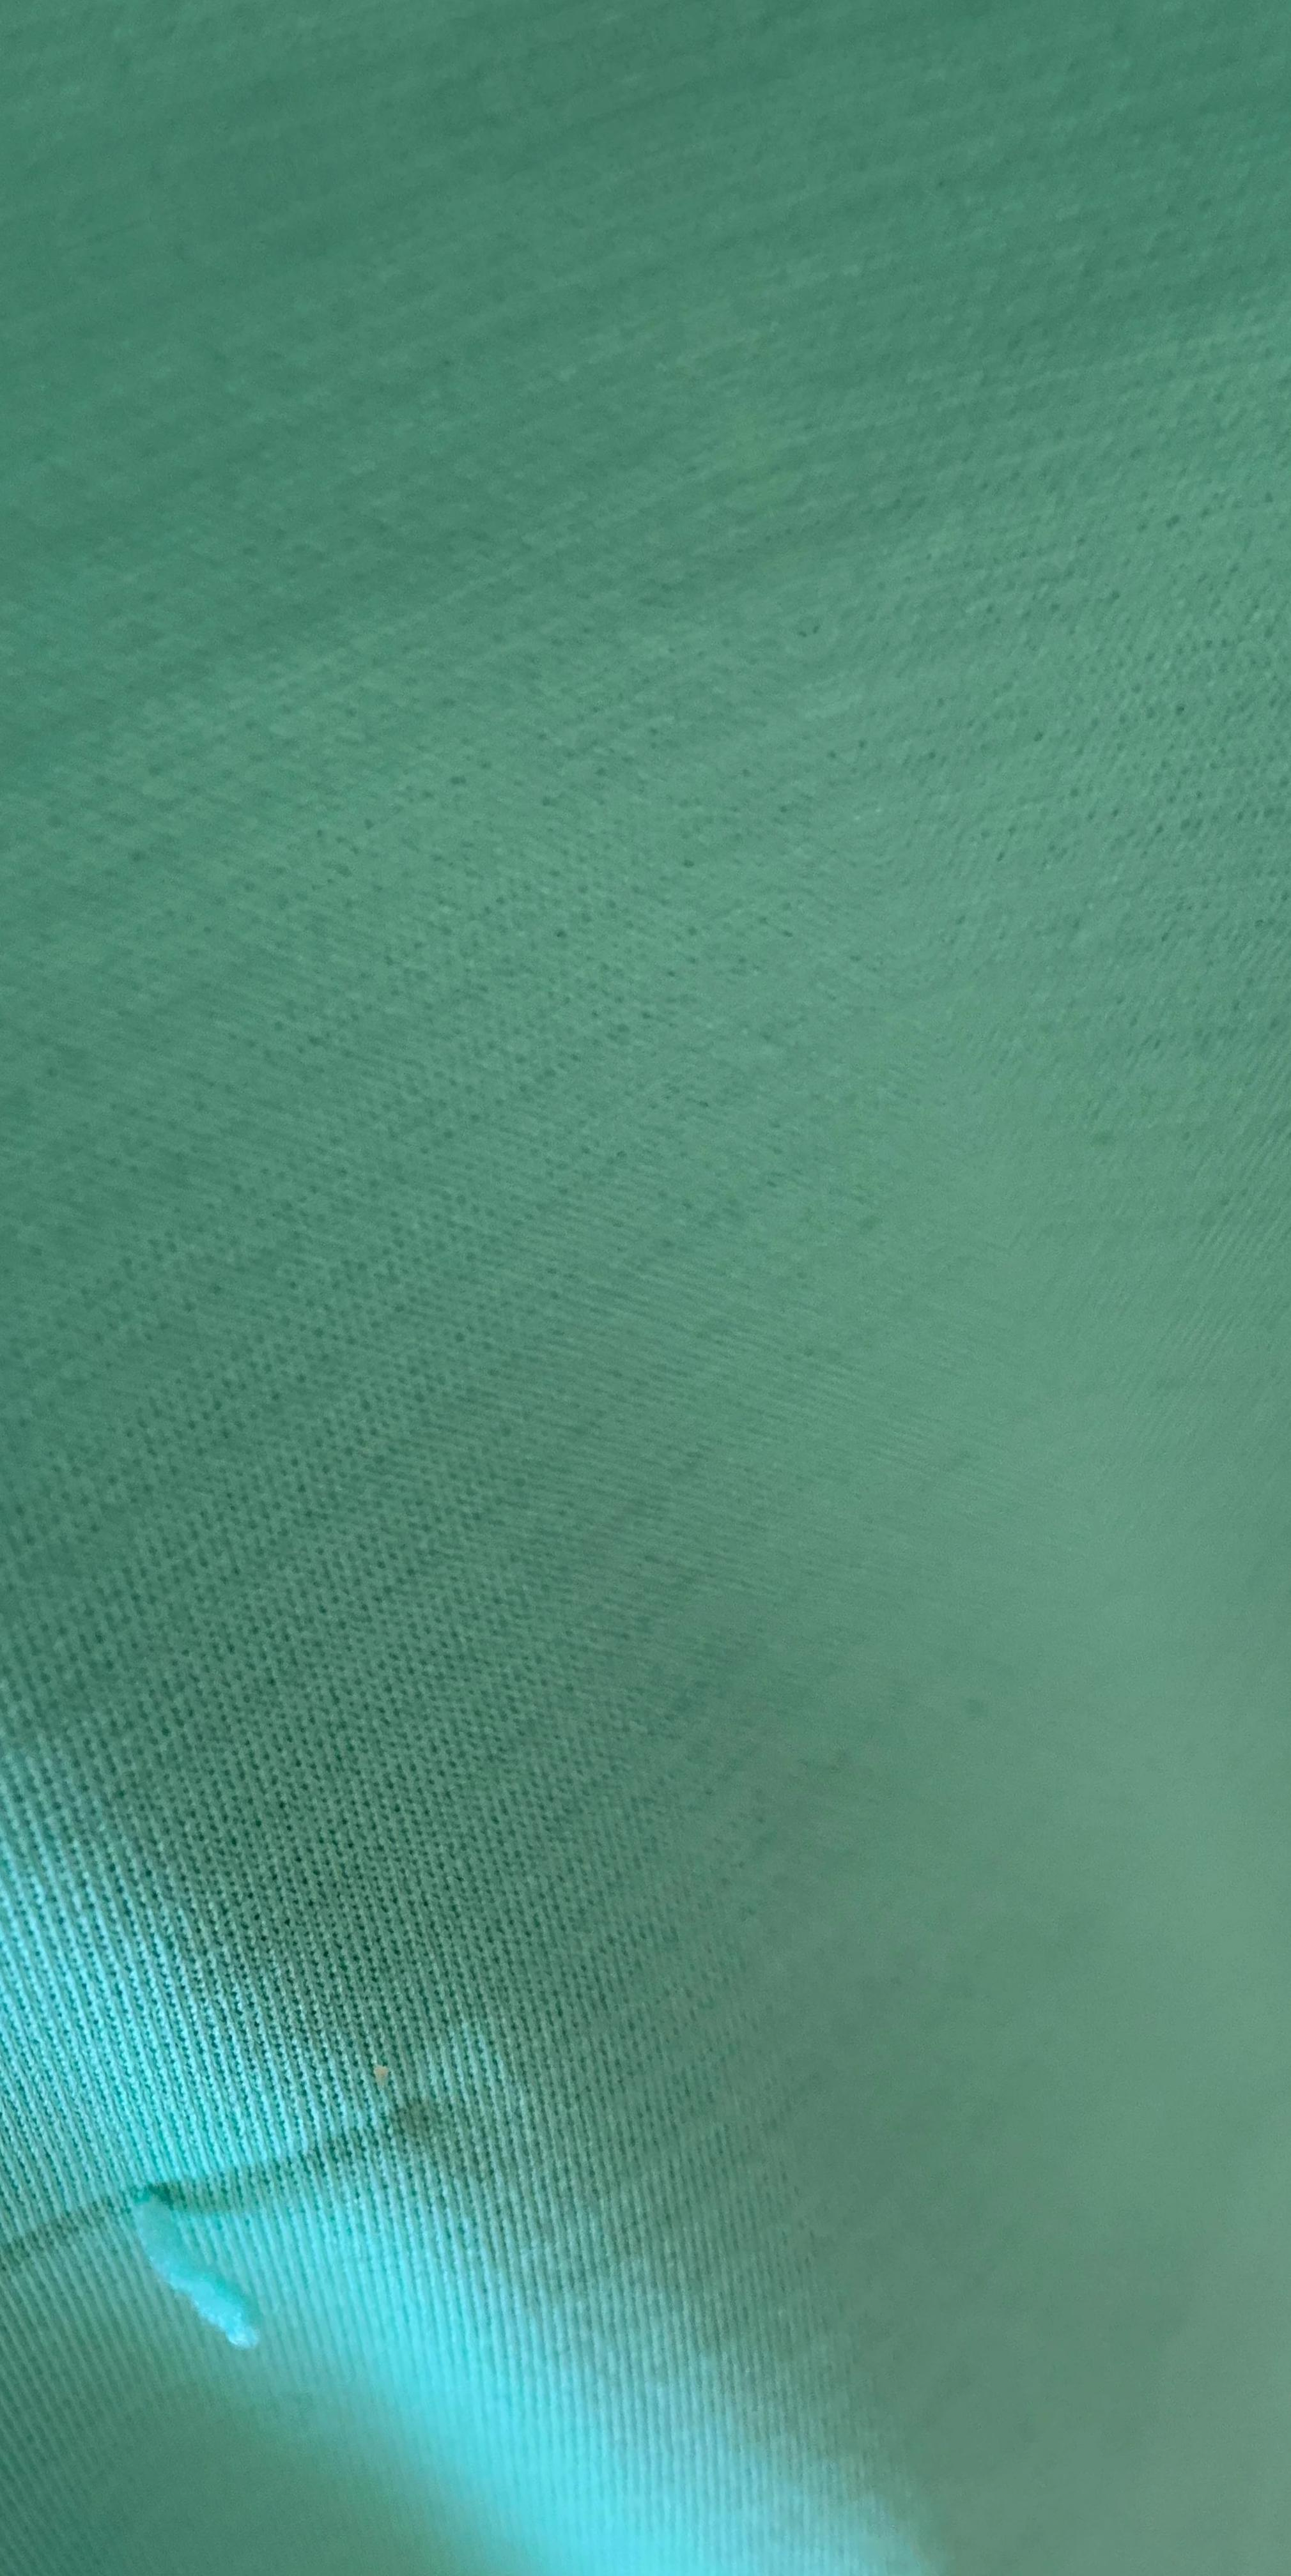snag: (76, 2090, 356, 2365)
